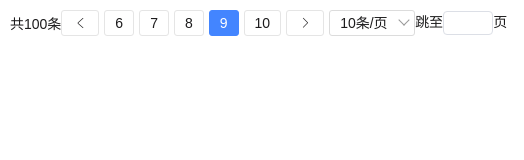
Test: Pagination › 测试pagination点击跳转选项跳转
The width and height of the screenshot is (524, 160).
Check: the element with class "t-pagination" is shown, box [10,10,507,36]
// 设置跳转的页码为3.并且回车跳转
Type "3" into the field. click: coordinates (468, 23)
box: [443,11,493,35]
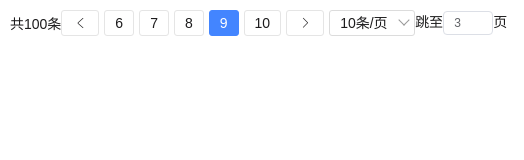
Press Enter in the field, box [443,11,493,35]
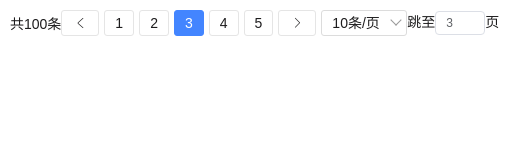
Check: the list item with class "t-pagination-item-active" reads "3", box [185,15,193,31]
